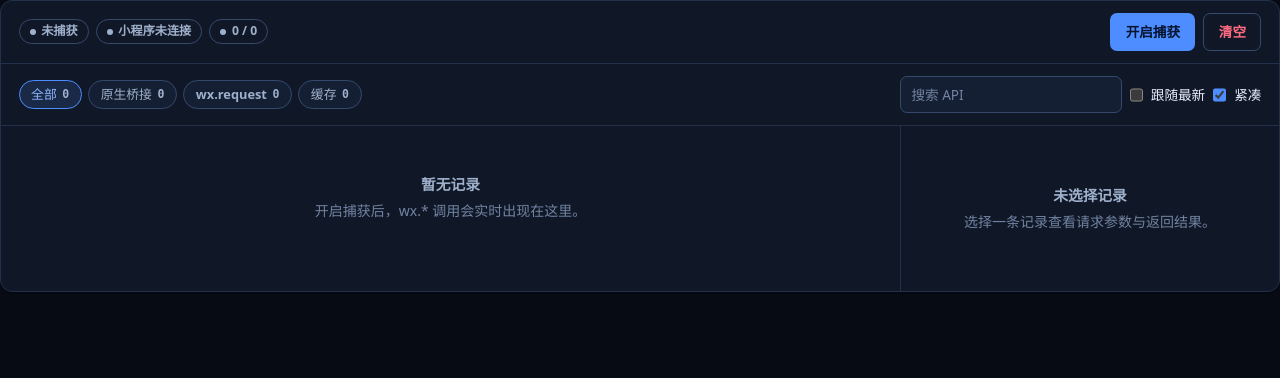
Test: WxApiView › resets the capture state when the backend reports it is not capturing
This screenshot has width=1280, height=378.
Click the button with test id "wxapi-toggle". click: (1153, 32)
box: [1110,13,1196,51]
Wait 4000 ms
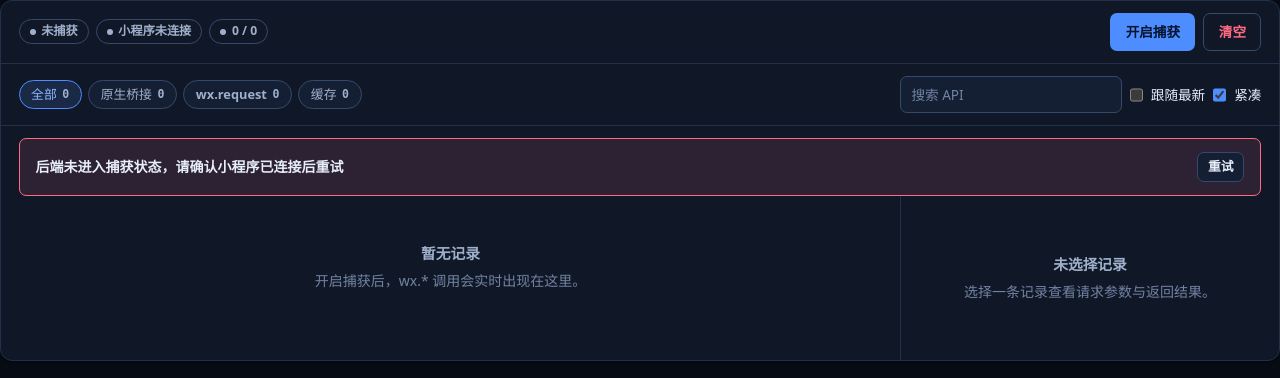
expect the message "后端未进入捕获状态，请确认小程序已连接后重试 重试" is shown: met, box [19,138,1261,196]
